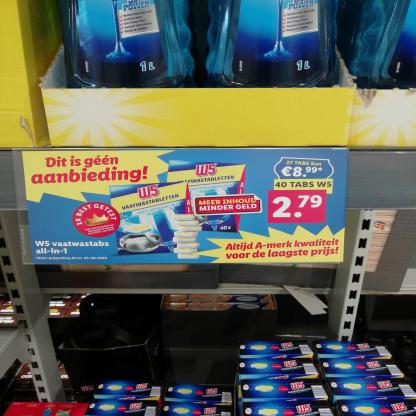prtg: (23, 150, 349, 264)
